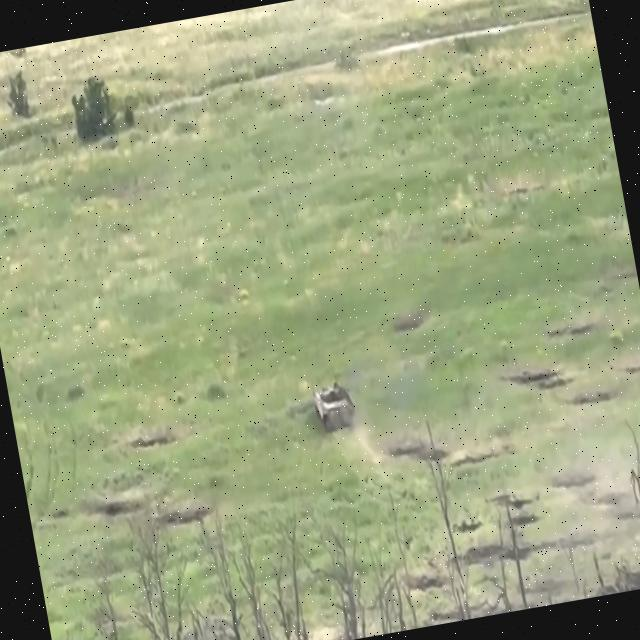AIFV: (310, 375, 360, 436)
